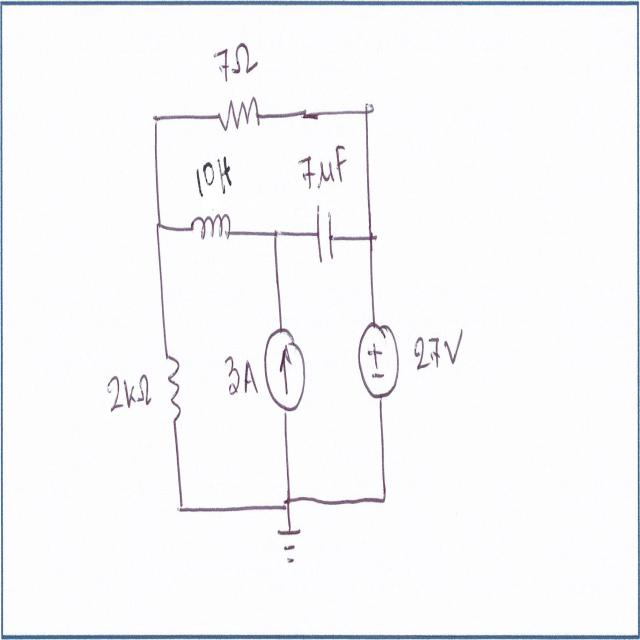capacitor: (313, 195, 337, 270)
current_source: (260, 322, 310, 422)
ground: (272, 524, 304, 570)
inductor: (187, 211, 237, 247)
resistor: (213, 90, 263, 140), (163, 346, 185, 438)
voltage_source: (354, 318, 400, 403)
